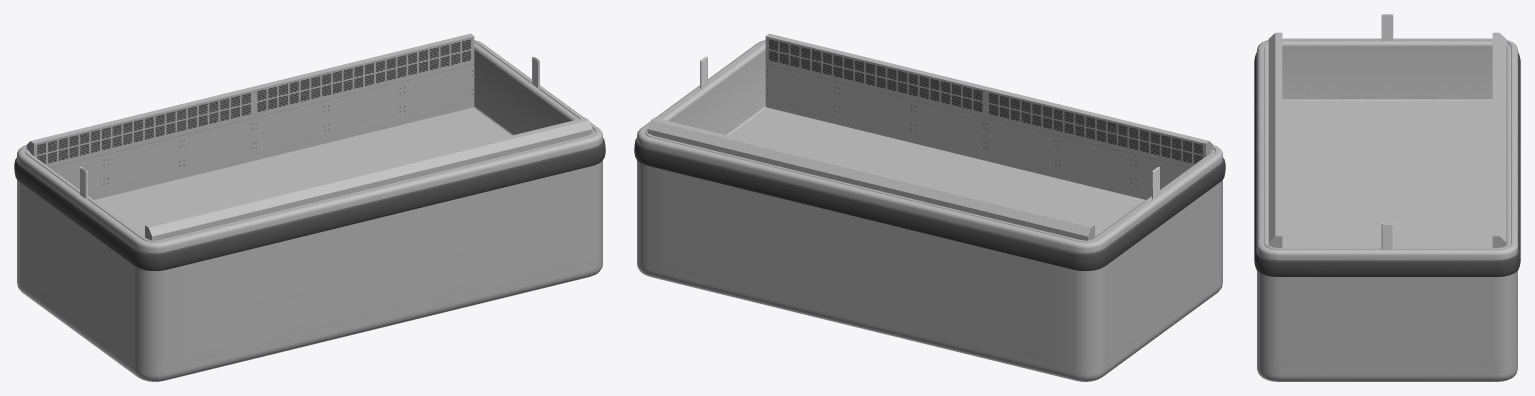
File: Fridge.fbx
The picture shows the model from 3 angles, left to right: view 1: azimuth 30°, elevation 25°; view 2: azimuth 150°, elevation 25°; view 3: azimuth 270°, elevation 25°; orthographic projection. The views are drawn at different scales.
Parts seen in each view (by area): view 1: bac_body, bac_freeze, bac_bump; view 2: bac_body, bac_freeze, bac_bump; view 3: bac_body, bac_freeze, bac_bump, bac_glass_jonc.
Boxes of the visible parts, box(x1,y1,x2,y2) form: bac_body: box(17, 40, 602, 381); bac_freeze: box(26, 33, 592, 240); bac_bump: box(14, 138, 605, 270); bac_body: box(637, 40, 1222, 381); bac_freeze: box(647, 33, 1213, 240); bac_bump: box(634, 138, 1225, 270); bac_body: box(1257, 38, 1517, 381); bac_freeze: box(1268, 32, 1506, 247); bac_bump: box(1254, 52, 1520, 276); bac_glass_jonc: box(1381, 14, 1393, 249).
Bounding box in the file's own units: 196 × 66.94 × 102.
